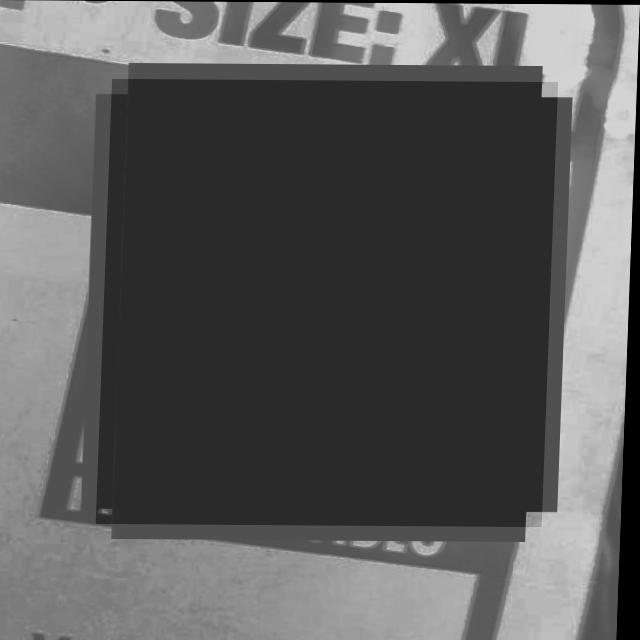qr_code: (100, 79, 559, 526)
